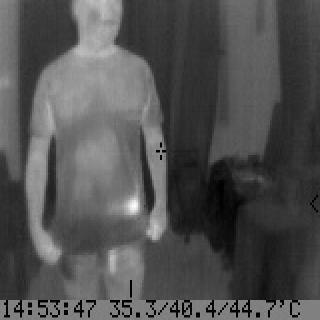Gun: (106, 195, 142, 277)
